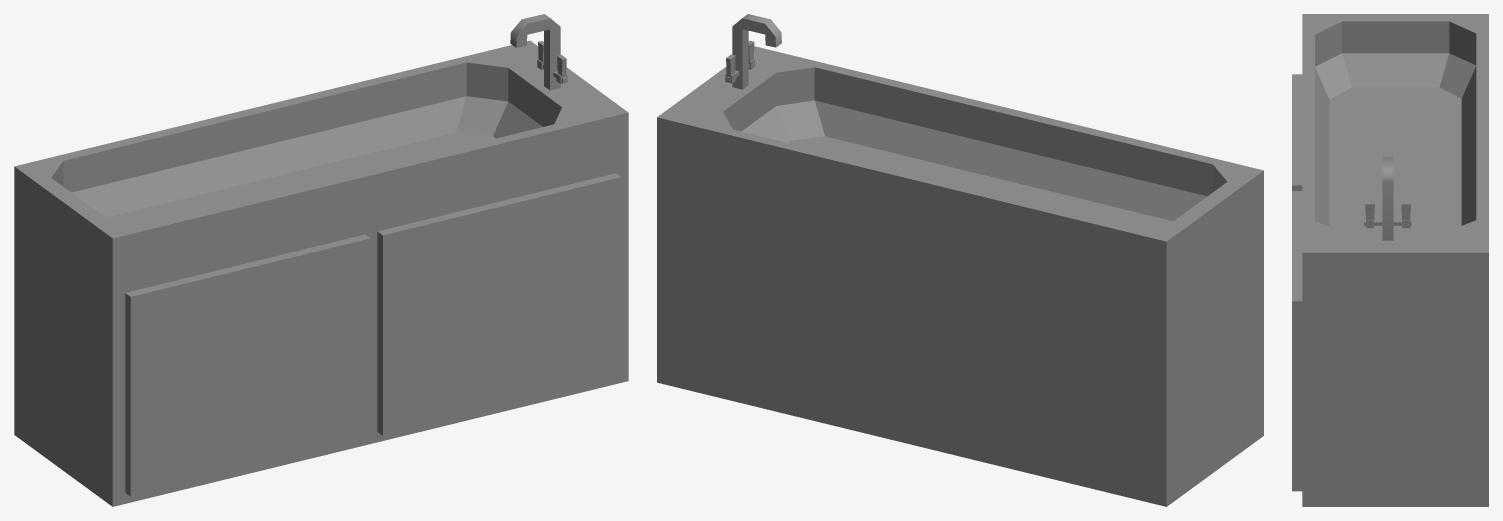
File: f_kitchen_sink.fbx
The picture shows the model from 3 angles, left to right: view 1: azimuth 30°, elevation 25°; view 2: azimuth 150°, elevation 25°; view 3: azimuth 270°, elevation 25°; orthographic projection. The views are drawn at different scales.
Parts seen in each view (by area): view 1: sink, tap; view 2: sink, tap; view 3: sink, tap, cold, hot.
Boxes of the visible parts, x1,y1,x2,y2 form: sink: (14, 40, 628, 506); tap: (510, 14, 560, 90); sink: (657, 46, 1263, 506); tap: (732, 14, 781, 89); sink: (1292, 14, 1488, 506); tap: (1382, 156, 1393, 240); cold: (1401, 202, 1410, 228); hot: (1365, 202, 1374, 228).
Bounding box in the file's own units: 169 × 107 × 59.07.
1 material, 1 textured.
